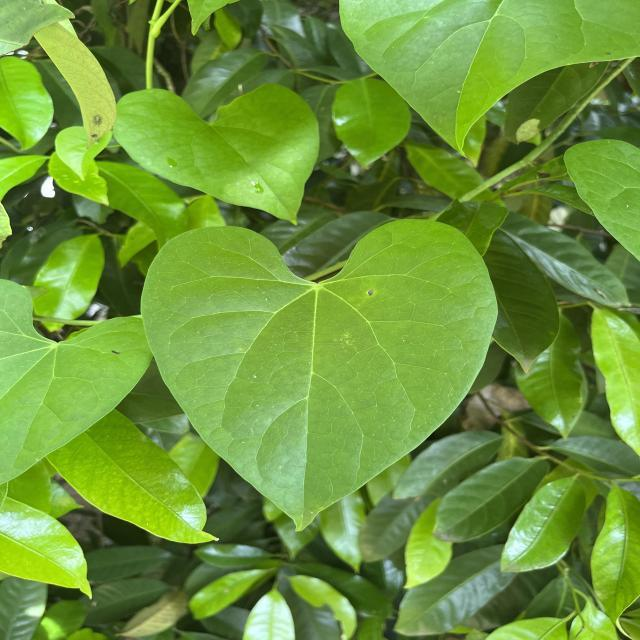Tinospora cordifolia: (136, 214, 503, 536)
